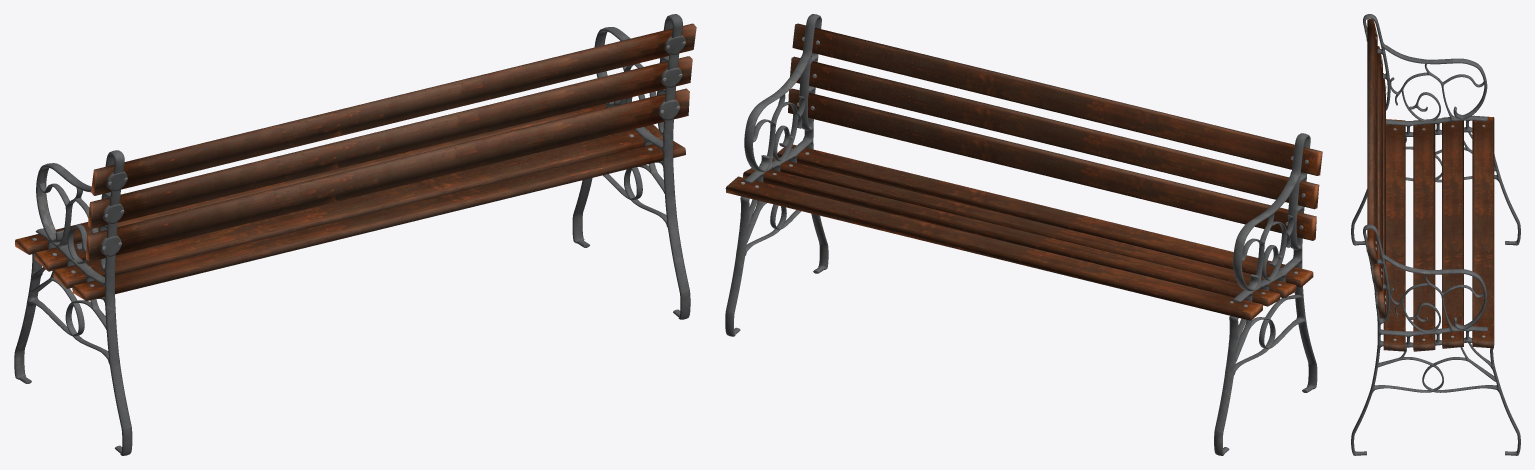
File: SillaB.fbx
3 renders of one model, left to right at view 1: azimuth 30°, elevation 25°; view 2: azimuth 150°, elevation 25°; view 3: azimuth 270°, elevation 25°, orthographic. The views are drawn at different scales.
Visible parts, largest first — view 1: Tabua.003, Tabua.005, Tabua.006, Pés, Tabua.001, Tabua, Tabua.004, Tabua.002; view 2: Pés, Tabua.006, Tabua.005, Tabua.003, Tabua.004, Tabua, Tabua.002, Tabua.001; view 3: Pés, Tabua.004, Tabua.001, Tabua.002, Tabua, Tabua.006, Tabua.005, Tabua.003.
Part boxes in pixels (<box>): Tabua.003: <box>86,88,689,261</box>; Tabua.005: <box>88,56,692,228</box>; Tabua.006: <box>91,23,696,195</box>; Pés: <box>14,14,690,455</box>; Tabua.001: <box>53,124,663,288</box>; Tabua: <box>72,141,685,301</box>; Tabua.004: <box>15,103,605,254</box>; Tabua.002: <box>34,241,88,271</box>; Pés: <box>725,14,1317,455</box>; Tabua.006: <box>792,23,1322,175</box>; Tabua.005: <box>790,56,1319,209</box>; Tabua.003: <box>788,88,1316,240</box>; Tabua.004: <box>725,176,1262,320</box>; Tabua: <box>777,144,1313,287</box>; Tabua.002: <box>743,168,1280,306</box>; Tabua.001: <box>760,157,1296,297</box>; Pés: <box>1351,14,1520,455</box>; Tabua.004: <box>1472,115,1494,348</box>; Tabua.001: <box>1413,119,1435,351</box>; Tabua.002: <box>1442,117,1463,348</box>; Tabua: <box>1383,119,1405,351</box>; Tabua.006: <box>1364,19,1377,264</box>; Tabua.005: <box>1370,46,1382,291</box>; Tabua.003: <box>1374,73,1386,318</box>.
Size of the model in its own units: 150 by 71.06 by 47.63.
1 material, 1 textured.
